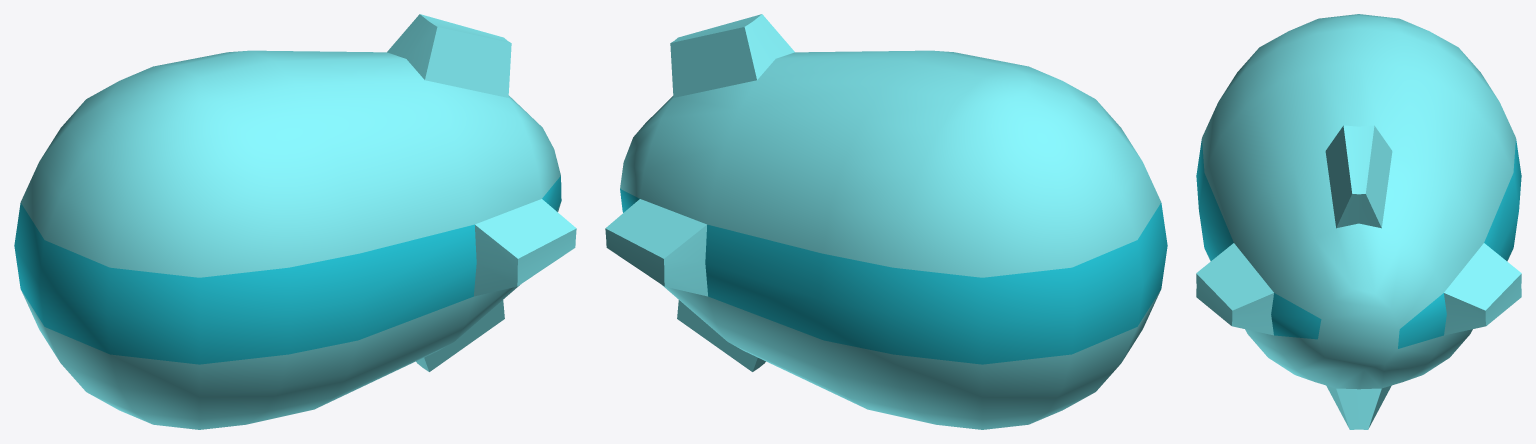
Rendered from Airballoons3.fbx.
3 views of the same model, side by side, from view 1: azimuth 30°, elevation 25°; view 2: azimuth 150°, elevation 25°; view 3: azimuth 270°, elevation 25° (orthographic). The views are drawn at different scales.
Visible parts, largest first — view 1: Airballoons3; view 2: Airballoons3; view 3: Airballoons3.
Boxes of the visible parts, x1,y1,x2,y2 form: Airballoons3: [14, 14, 576, 429]; Airballoons3: [605, 14, 1167, 429]; Airballoons3: [1196, 14, 1521, 429].
Bounding box in the file's own units: 835 × 552 × 535.
1 material, 1 textured.
